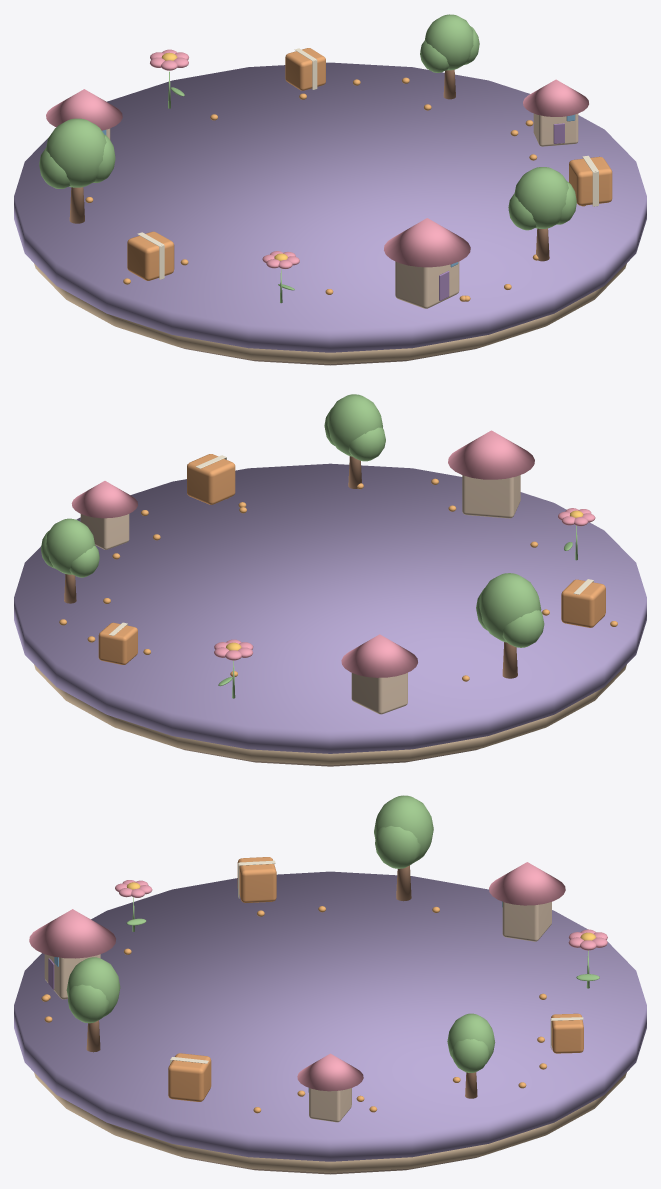
Rendered from world.glb.
3 renders of one model, top to bottom at view 1: azimuth 30°, elevation 25°; view 2: azimuth 150°, elevation 25°; view 3: azimuth 270°, elevation 25°, orthographic.
Visible parts, largest first — view 1: Cone, Cone.001, house.003, tree.002, tree.003, house.001, tree.001, parcel.002, house.002, parcel.003, parcel.001, flower.001 (+2 smaller); view 2: Cone, Cone.001, house.003, tree.002, house.002, tree.003, tree.001, house.001, parcel.003, parcel.002, parcel.001, flower.001 (+2 smaller); view 3: Cone, Cone.001, house.002, house.003, tree.002, tree.003, house.001, tree.001, parcel.003, parcel.002, parcel.001, flower.001 (+1 smaller).
Part boxes in pixels (x1,y1,x2,y2): Cone: [14, 62, 646, 352]; Cone.001: [34, 263, 626, 364]; house.003: [384, 218, 470, 308]; tree.002: [39, 118, 115, 223]; tree.003: [508, 167, 576, 261]; house.001: [523, 79, 588, 146]; tree.001: [420, 14, 479, 99]; parcel.002: [127, 231, 174, 280]; house.002: [46, 89, 122, 139]; parcel.003: [569, 155, 612, 206]; parcel.001: [285, 48, 325, 90]; flower.001: [150, 49, 188, 108]; Cone: [14, 463, 646, 753]; Cone.001: [34, 664, 626, 765]; house.003: [448, 430, 534, 518]; tree.002: [476, 573, 544, 678]; house.002: [341, 634, 417, 714]; tree.003: [324, 394, 385, 488]; tree.001: [41, 518, 99, 603]; house.001: [71, 481, 137, 549]; parcel.003: [187, 454, 235, 504]; parcel.002: [561, 579, 605, 627]; parcel.001: [98, 622, 137, 664]; flower.001: [214, 639, 253, 698]; Cone: [14, 871, 646, 1161]; Cone.001: [34, 1072, 626, 1173]; house.002: [489, 862, 565, 941]; house.003: [29, 909, 115, 999]; tree.002: [374, 795, 433, 901]; tree.003: [66, 957, 120, 1052]; house.001: [297, 1053, 363, 1122]; tree.001: [447, 1013, 495, 1098]; parcel.003: [168, 1053, 211, 1101]; parcel.002: [237, 857, 276, 902]; parcel.001: [550, 1013, 583, 1053]; flower.001: [568, 929, 607, 988].
Size of the model in its own units: 9.6 by 2.47 by 9.6.
